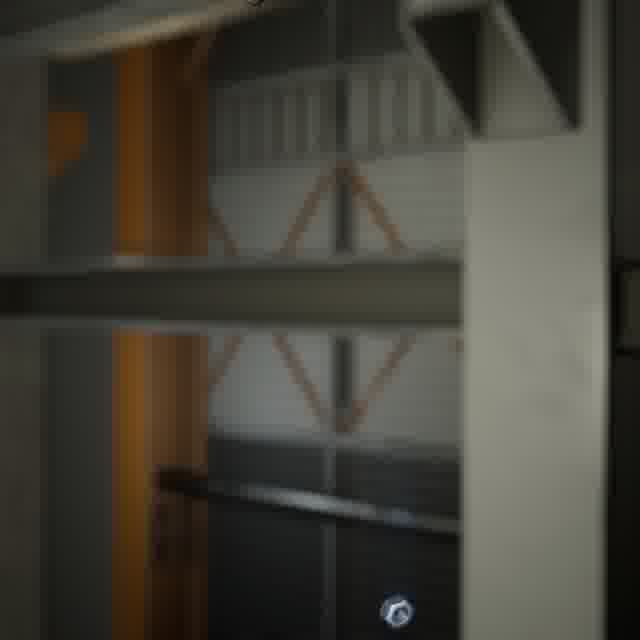nut: (375, 590, 418, 633)
